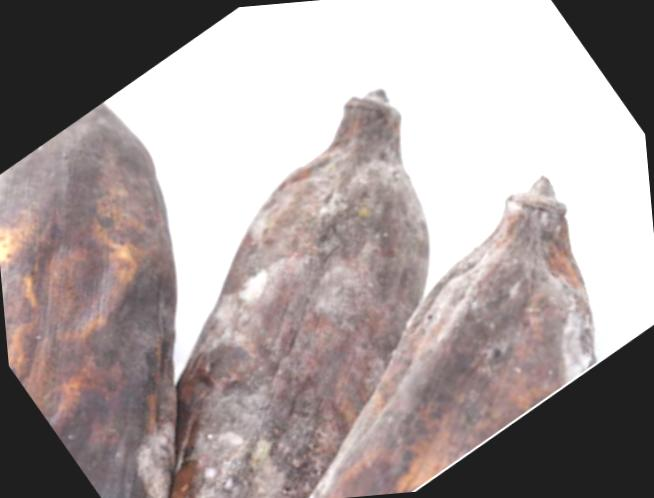Banana Overripe: (0, 11, 623, 498)
